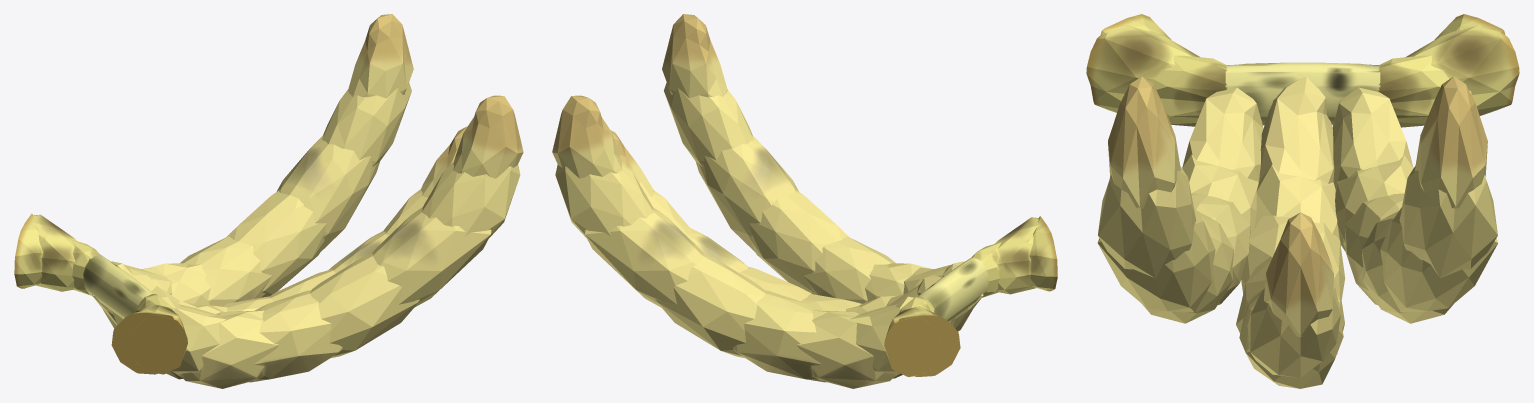
Rendered from banana.fbx.
The picture shows the model from 3 angles, left to right: view 1: azimuth 30°, elevation 25°; view 2: azimuth 150°, elevation 25°; view 3: azimuth 270°, elevation 25°; orthographic projection. The views are drawn at different scales.
Parts seen in each view (by area): view 1: Icosphere.003, Icosphere.002, Mball.001, Icosphere.004; view 2: Icosphere.002, Icosphere.003, Mball.001, Icosphere.004; view 3: Icosphere.002, Icosphere.003, Icosphere.004, Mball.001.
Boxes of the visible parts, x1,y1,x2,y2 form: Icosphere.003: (161,95,523,388); Icosphere.002: (92,14,413,328); Mball.001: (14,213,187,374); Icosphere.004: (112,126,467,379); Icosphere.002: (552,95,913,388); Icosphere.003: (662,14,983,331); Mball.001: (884,216,1057,376); Icosphere.004: (610,130,955,378); Icosphere.002: (1332,76,1497,323); Icosphere.003: (1097,76,1263,323); Icosphere.004: (1236,76,1345,388); Mball.001: (1086,14,1519,127).
Bounding box in the file's own units: 324 × 196 × 200.
6 materials, 6 textured.
